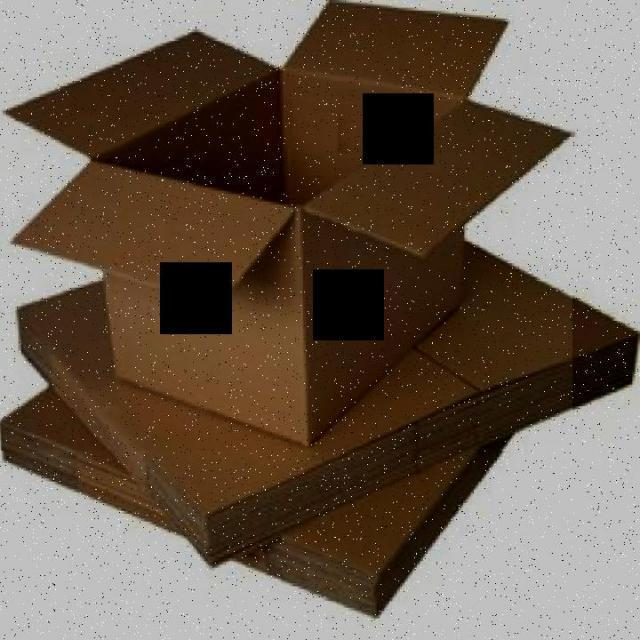box: (1, 0, 574, 451), (0, 234, 638, 570), (0, 403, 517, 636)
